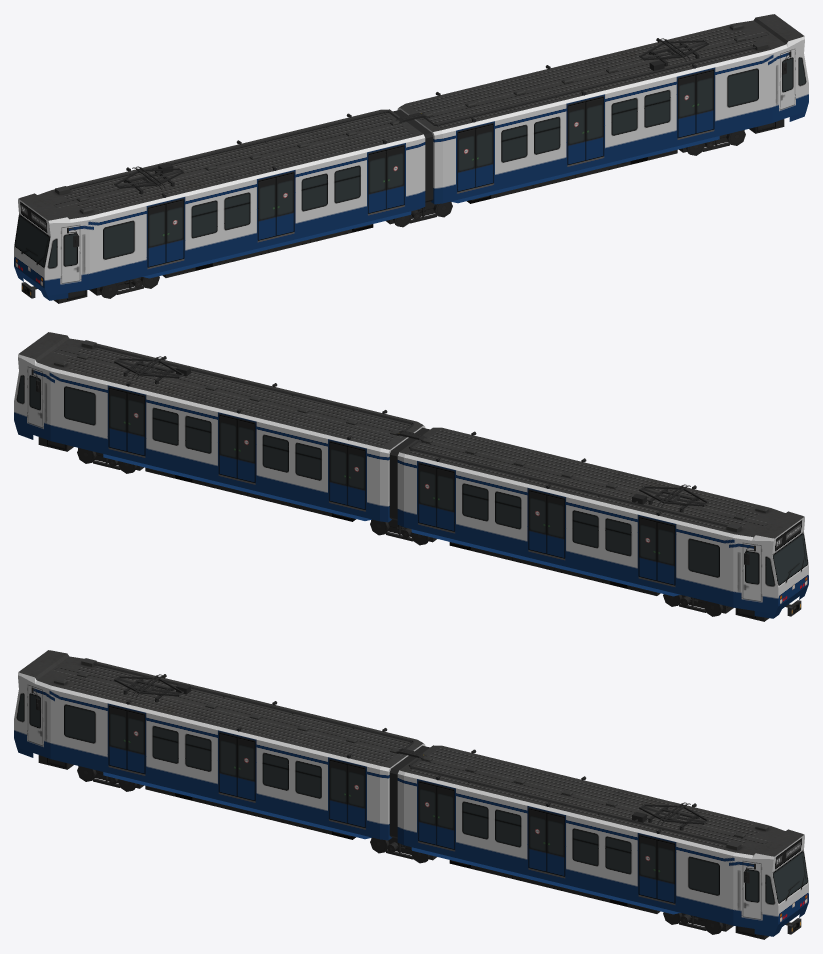
The picture shows the model from 3 angles, top to bottom: view 1: azimuth 30°, elevation 25°; view 2: azimuth 150°, elevation 25°; view 3: azimuth 330°, elevation 25°; orthographic projection.
Parts seen in each view (by area): view 1: Sneltram.Bak.Metro.001_0_4, Sneltram.Bak.Metro_0_2, Sneltram.Draaistel.001_0_6; view 2: Sneltram.Bak.Metro.001_0_4, Sneltram.Bak.Metro_0_2, Sneltram.Draaistel.001_0_6; view 3: Sneltram.Bak.Metro_0_2, Sneltram.Bak.Metro.001_0_4, Sneltram.Draaistel.001_0_6.
Boxes of the visible parts, x1,y1,x2,y2 form: Sneltram.Bak.Metro.001_0_4: (14,109,425,303); Sneltram.Bak.Metro_0_2: (397,14,808,204); Sneltram.Draaistel.001_0_6: (386,109,452,227); Sneltram.Bak.Metro.001_0_4: (397,427,808,621); Sneltram.Bak.Metro_0_2: (14,332,425,522); Sneltram.Draaistel.001_0_6: (370,427,436,545); Sneltram.Bak.Metro_0_2: (397,745,808,939); Sneltram.Bak.Metro.001_0_4: (14,650,425,840); Sneltram.Draaistel.001_0_6: (370,745,436,863).
Size of the model in its own units: 6.04 by 0.7648 by 0.6261.
Materials: 2 (2 with a texture image).
